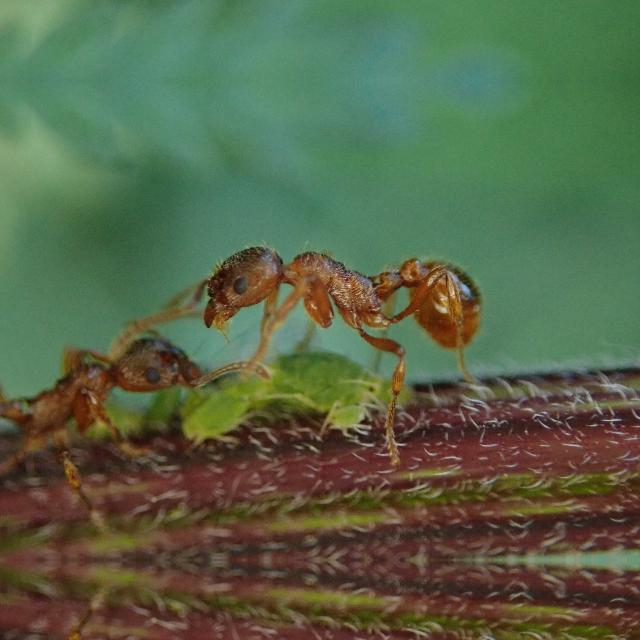Myrmica: (186, 216, 506, 380), (0, 298, 224, 494)
